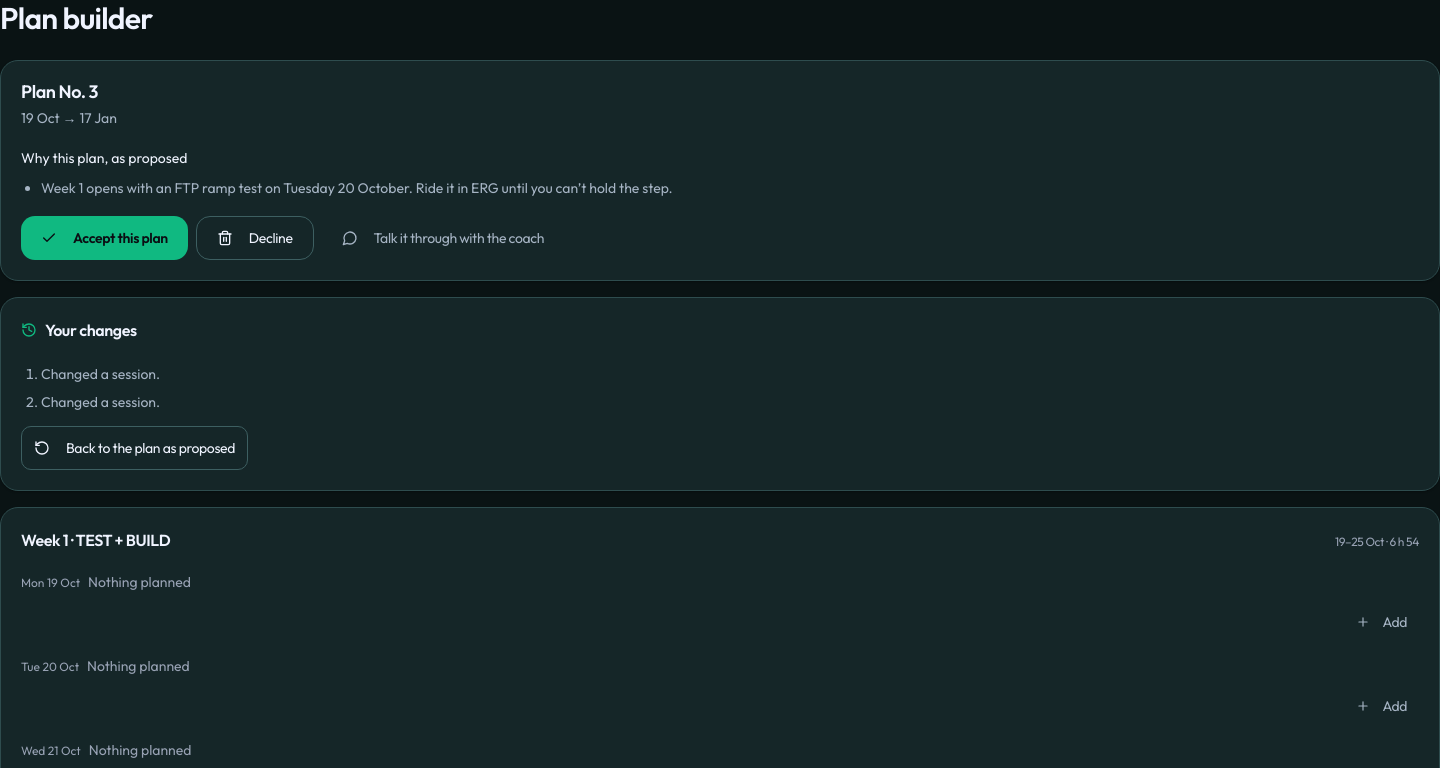
Test: BlockGeneratorPage › names the number of changes the decline discards
Expected: the heading "Plan No. 3" is shown, [21,80,98,103]
Click the button "Decline" at (255, 238), box [196,216,314,260]
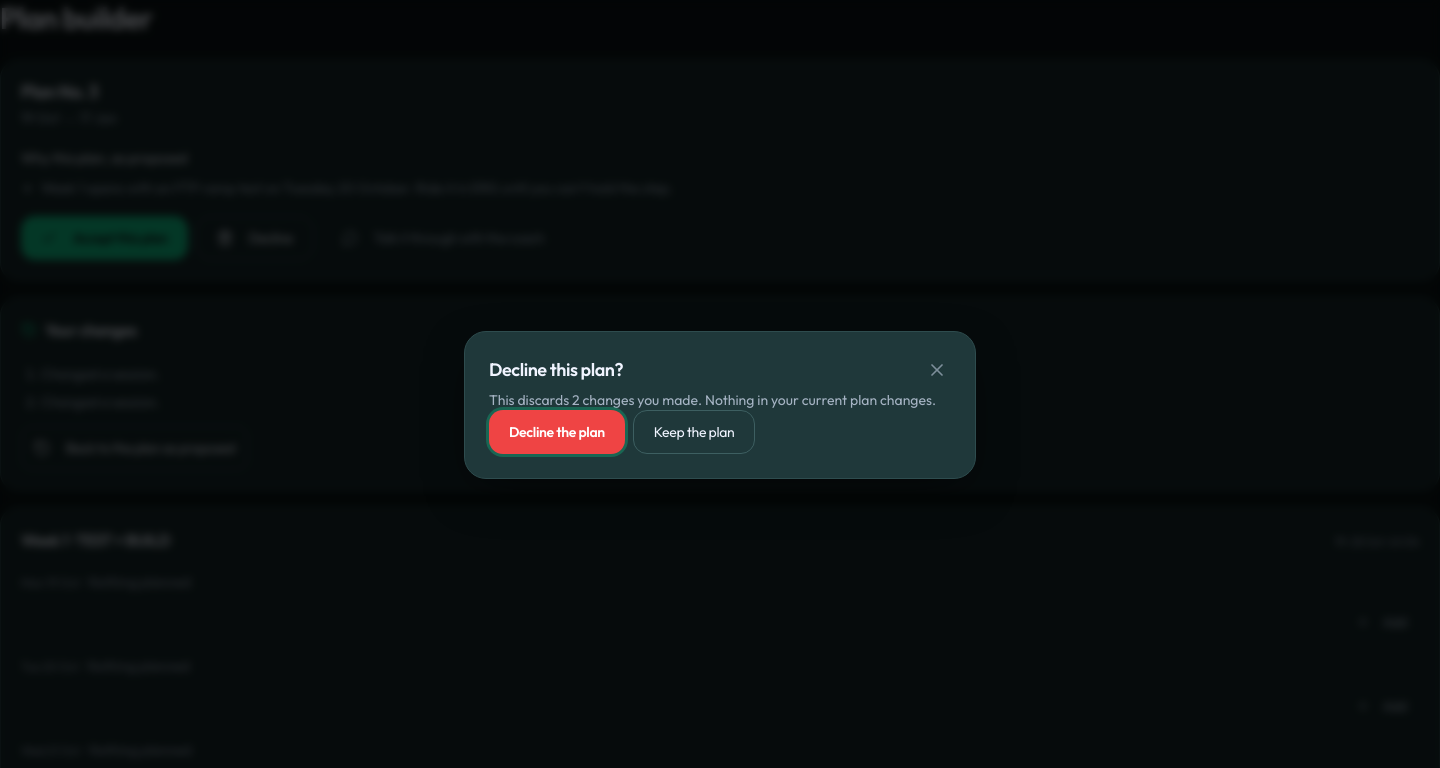
Expected: the text "This discards 2 changes you made" is shown, [489,391,705,409]
